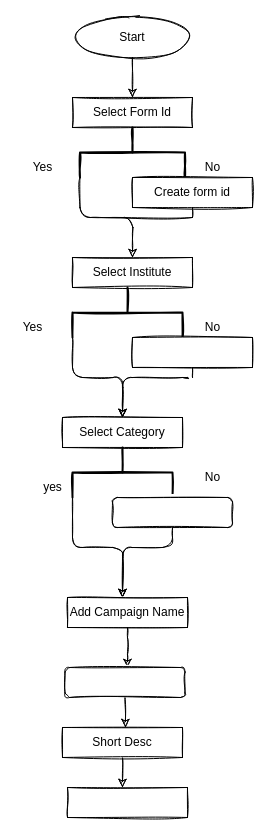
The diagram is 270 pixels wide and 835 high, and some of its shapes have lost their labels. Here are the shapes that lost their labels. From the top down, the box of each, then its label:
(132, 336, 252, 368): Create Institute
(112, 496, 232, 528): Create category
(64, 666, 185, 698): Title
